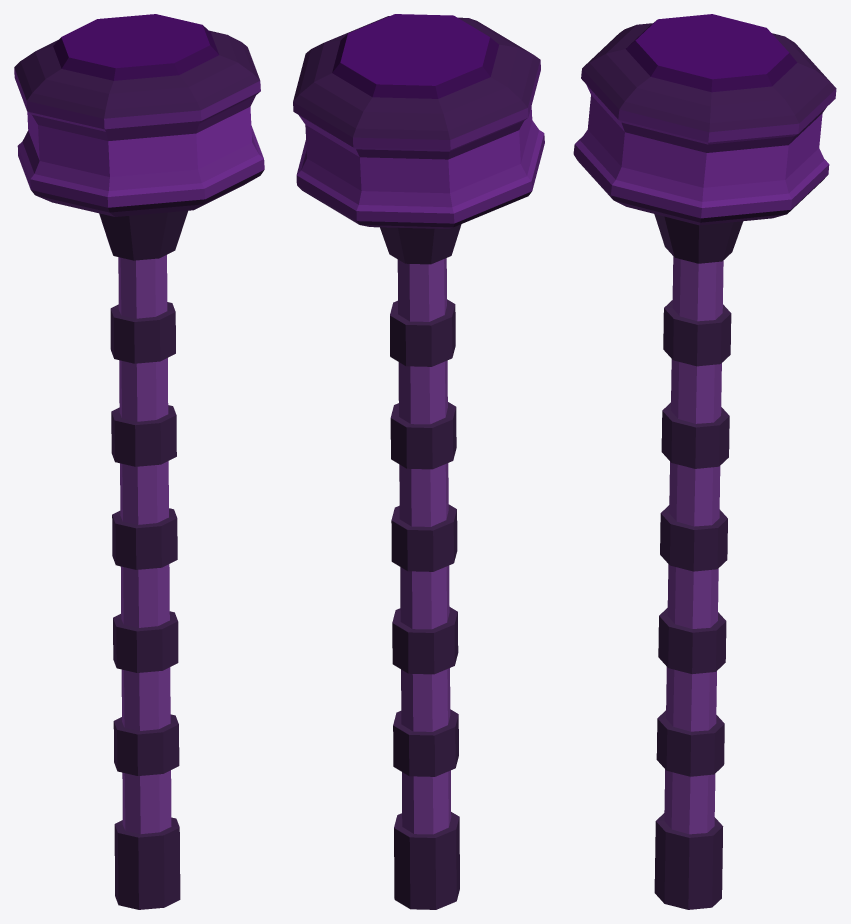
File: startEngineObject.fbx
The picture shows the model from 3 angles, left to right: view 1: azimuth 30°, elevation 25°; view 2: azimuth 150°, elevation 25°; view 3: azimuth 270°, elevation 25°; orthographic projection.
Parts seen in each view (by area): view 1: Cylinder; view 2: Cylinder; view 3: Cylinder.
Part boxes in pixels (x1,y1,x2,y2): Cylinder: (14,14,264,909); Cylinder: (293,14,544,909); Cylinder: (573,14,836,909).
Bounding box in the file's own units: 20.2 × 74.7 × 20.76.
